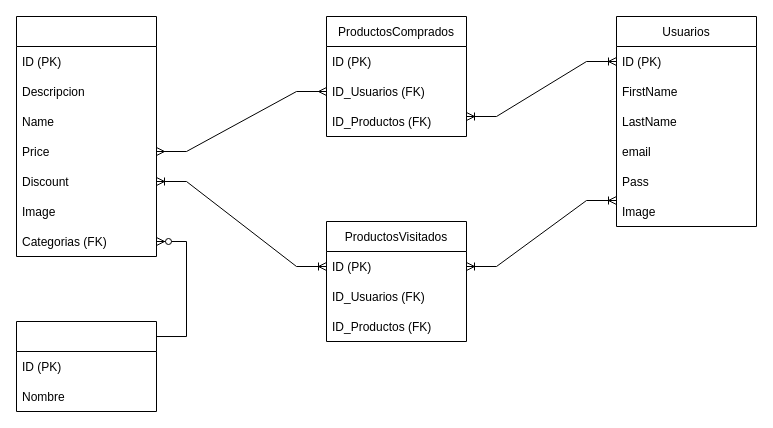
Some shapes in this 773 by 428 pixel diagram are drawn without their labels. Here are the shapes that lost their labels. From the top down, the box of each, then its label:
(16, 16, 156, 256): Productos
(16, 320, 156, 412): Categorias
